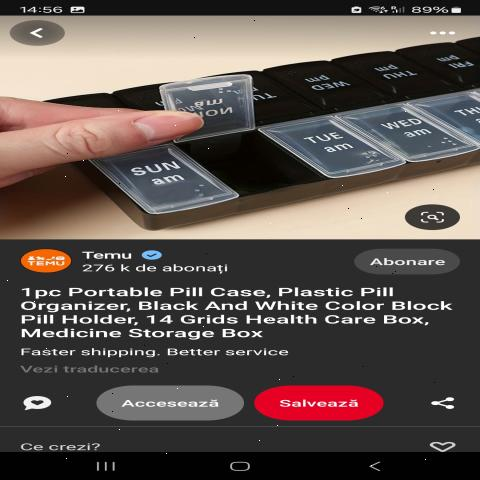PillBox: (33, 31, 480, 227)
